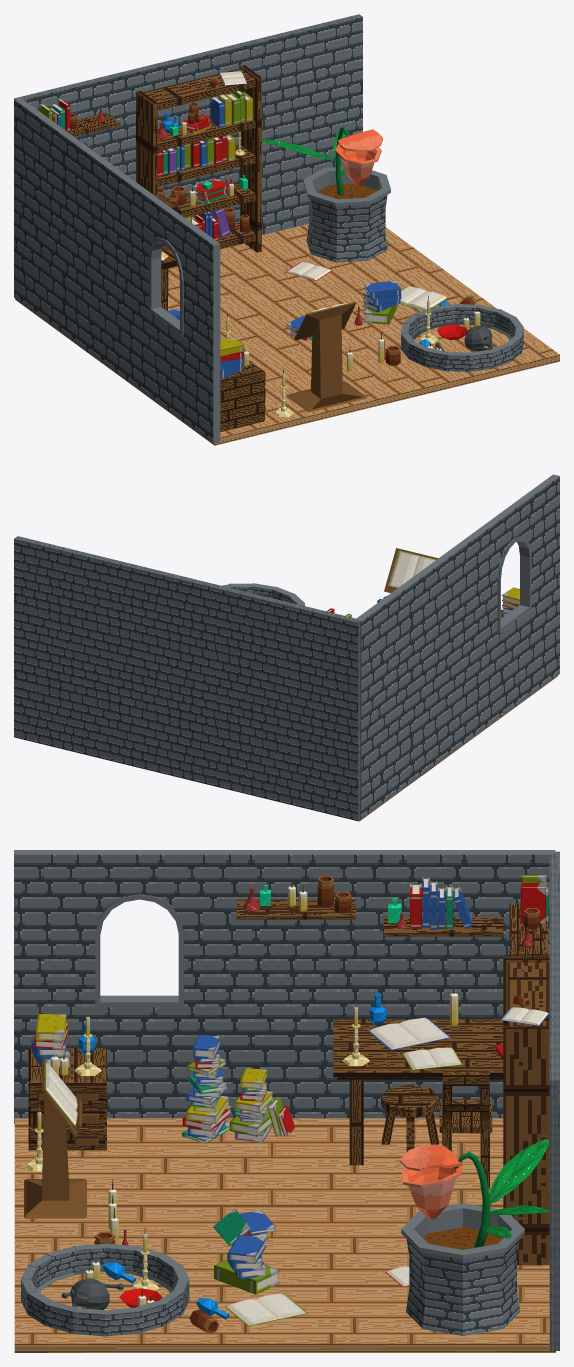
Rendered from Wizard House_Mano Paredis.obj.
3 renders of one model, top to bottom at view 1: azimuth 30°, elevation 25°; view 2: azimuth 150°, elevation 25°; view 3: azimuth 270°, elevation 25°, orthographic. The views are drawn at different scales.
Parts seen in each view (by area): view 1: Window_Frame, Floor, Walls.001, BookCase, Flower_Pot, Ritual_Circle, Lectern, Cabinet, Mouth.002, Open_Book.003, Mouth.003, Shelf.002 (+3 smaller); view 2: Walls.001, Window_Frame, Open_Book.005, Ritual_Circle; view 3: Window_Frame, Floor, Flower_Pot, BookCase, Ritual_Circle, Table, Walls.001, Lectern, Cabinet, Chair, Stool, Mouth.002 (+18 smaller).
Part boxes in pixels (bbox=[...]): Window_Frame: bbox=[14, 98, 220, 443]; Floor: bbox=[15, 223, 559, 445]; Walls.001: bbox=[14, 14, 362, 297]; BookCase: bbox=[136, 65, 261, 252]; Flower_Pot: bbox=[303, 167, 390, 262]; Ritual_Circle: bbox=[401, 303, 523, 371]; Lectern: bbox=[286, 301, 367, 411]; Cabinet: bbox=[220, 360, 265, 431]; Mouth.002: bbox=[335, 143, 381, 185]; Open_Book.003: bbox=[399, 286, 447, 310]; Mouth.003: bbox=[338, 129, 382, 151]; Shelf.002: bbox=[68, 113, 120, 136]; Walls.001: bbox=[14, 536, 360, 821]; Window_Frame: bbox=[355, 474, 559, 818]; Open_Book.005: bbox=[388, 550, 436, 587]; Ritual_Circle: bbox=[222, 583, 305, 605]; Window_Frame: bbox=[14, 850, 555, 1123]; Floor: bbox=[14, 1118, 555, 1352]; Flower_Pot: bbox=[401, 1203, 524, 1335]; BookCase: bbox=[503, 956, 549, 1265]; Ritual_Circle: bbox=[21, 1243, 189, 1336]; Table: bbox=[333, 1019, 503, 1165]; Walls.001: bbox=[549, 851, 559, 1350]; Lectern: bbox=[24, 1057, 86, 1218]; Cabinet: bbox=[28, 1048, 106, 1150]; Chair: bbox=[439, 1071, 492, 1188]; Stool: bbox=[381, 1084, 439, 1151]; Mouth.002: bbox=[402, 1166, 461, 1219].
Size of the model in its own units: 13.92 by 7.67 by 13.91.
Materials: 13 (11 with a texture image).
